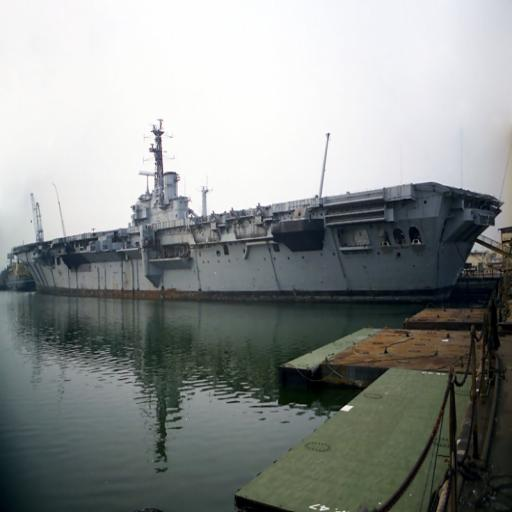Portanaves: (6, 106, 506, 302)
